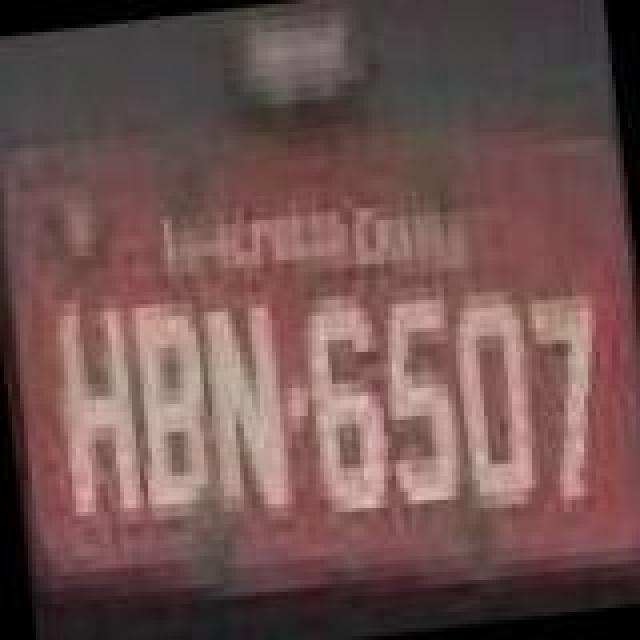5: (376, 288, 472, 520)
6: (292, 290, 396, 526)
7: (528, 284, 624, 516)
B: (124, 298, 220, 510)
H: (46, 298, 146, 518)
N: (200, 298, 296, 518)
O: (446, 284, 546, 516)
